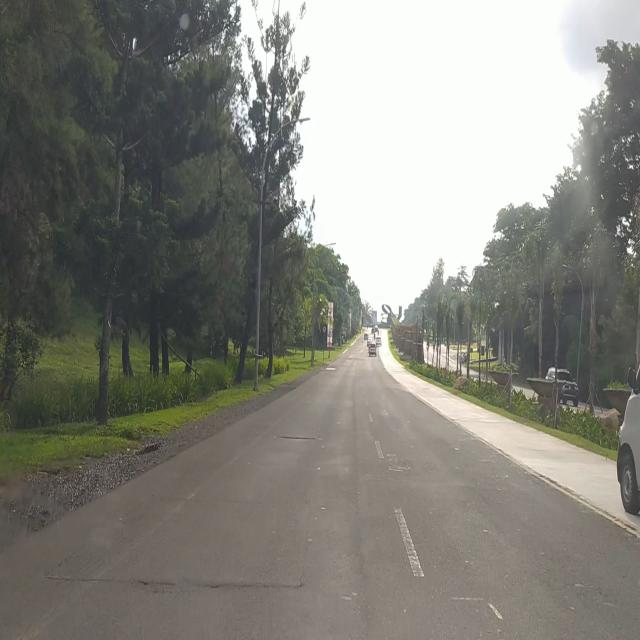Sewer Cover: (41, 563, 313, 585), (263, 432, 321, 444)
